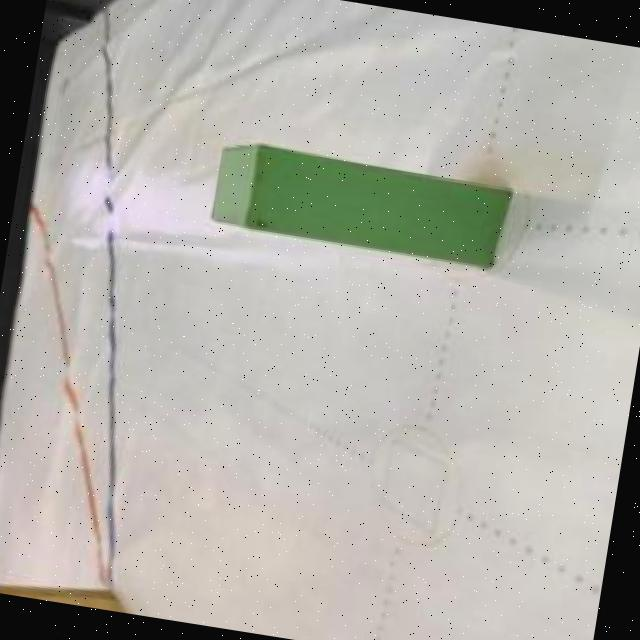greenbox: (207, 139, 515, 271)
